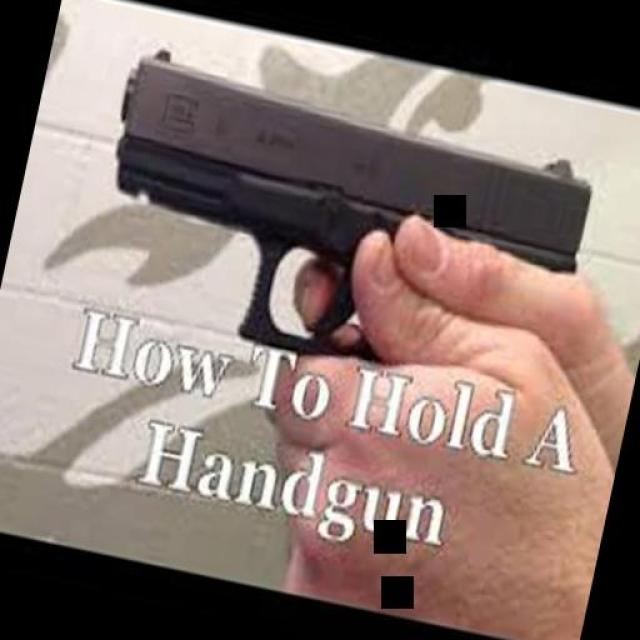gun: (72, 29, 608, 420)
